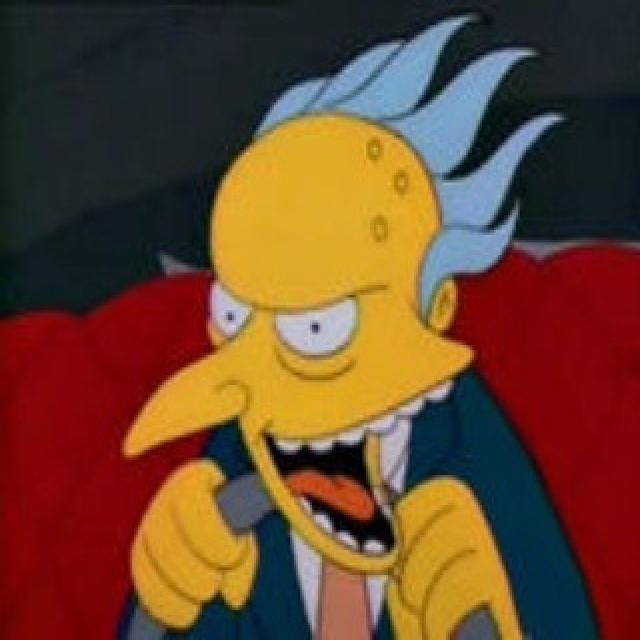Charles Montgomery Burns: (121, 15, 567, 580)
